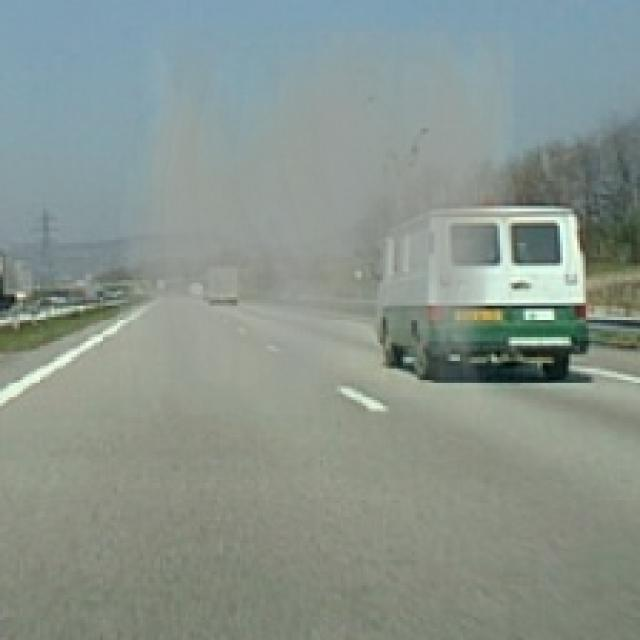smoke: (120, 26, 514, 423)
